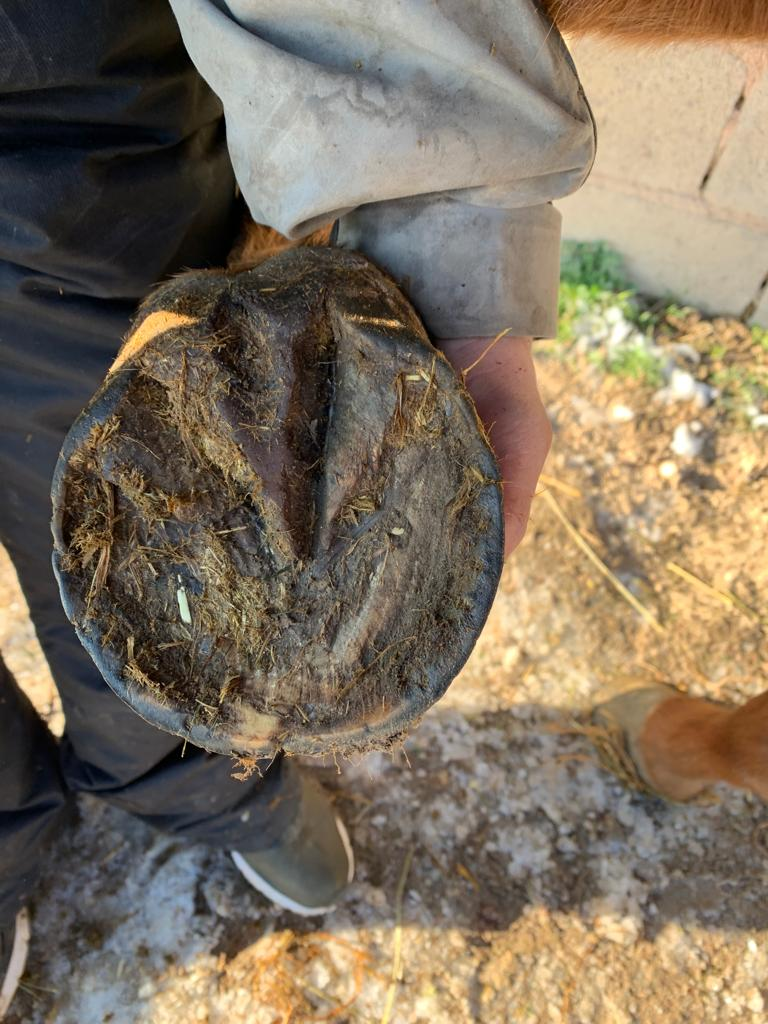horsesole: (50, 308, 507, 761)
